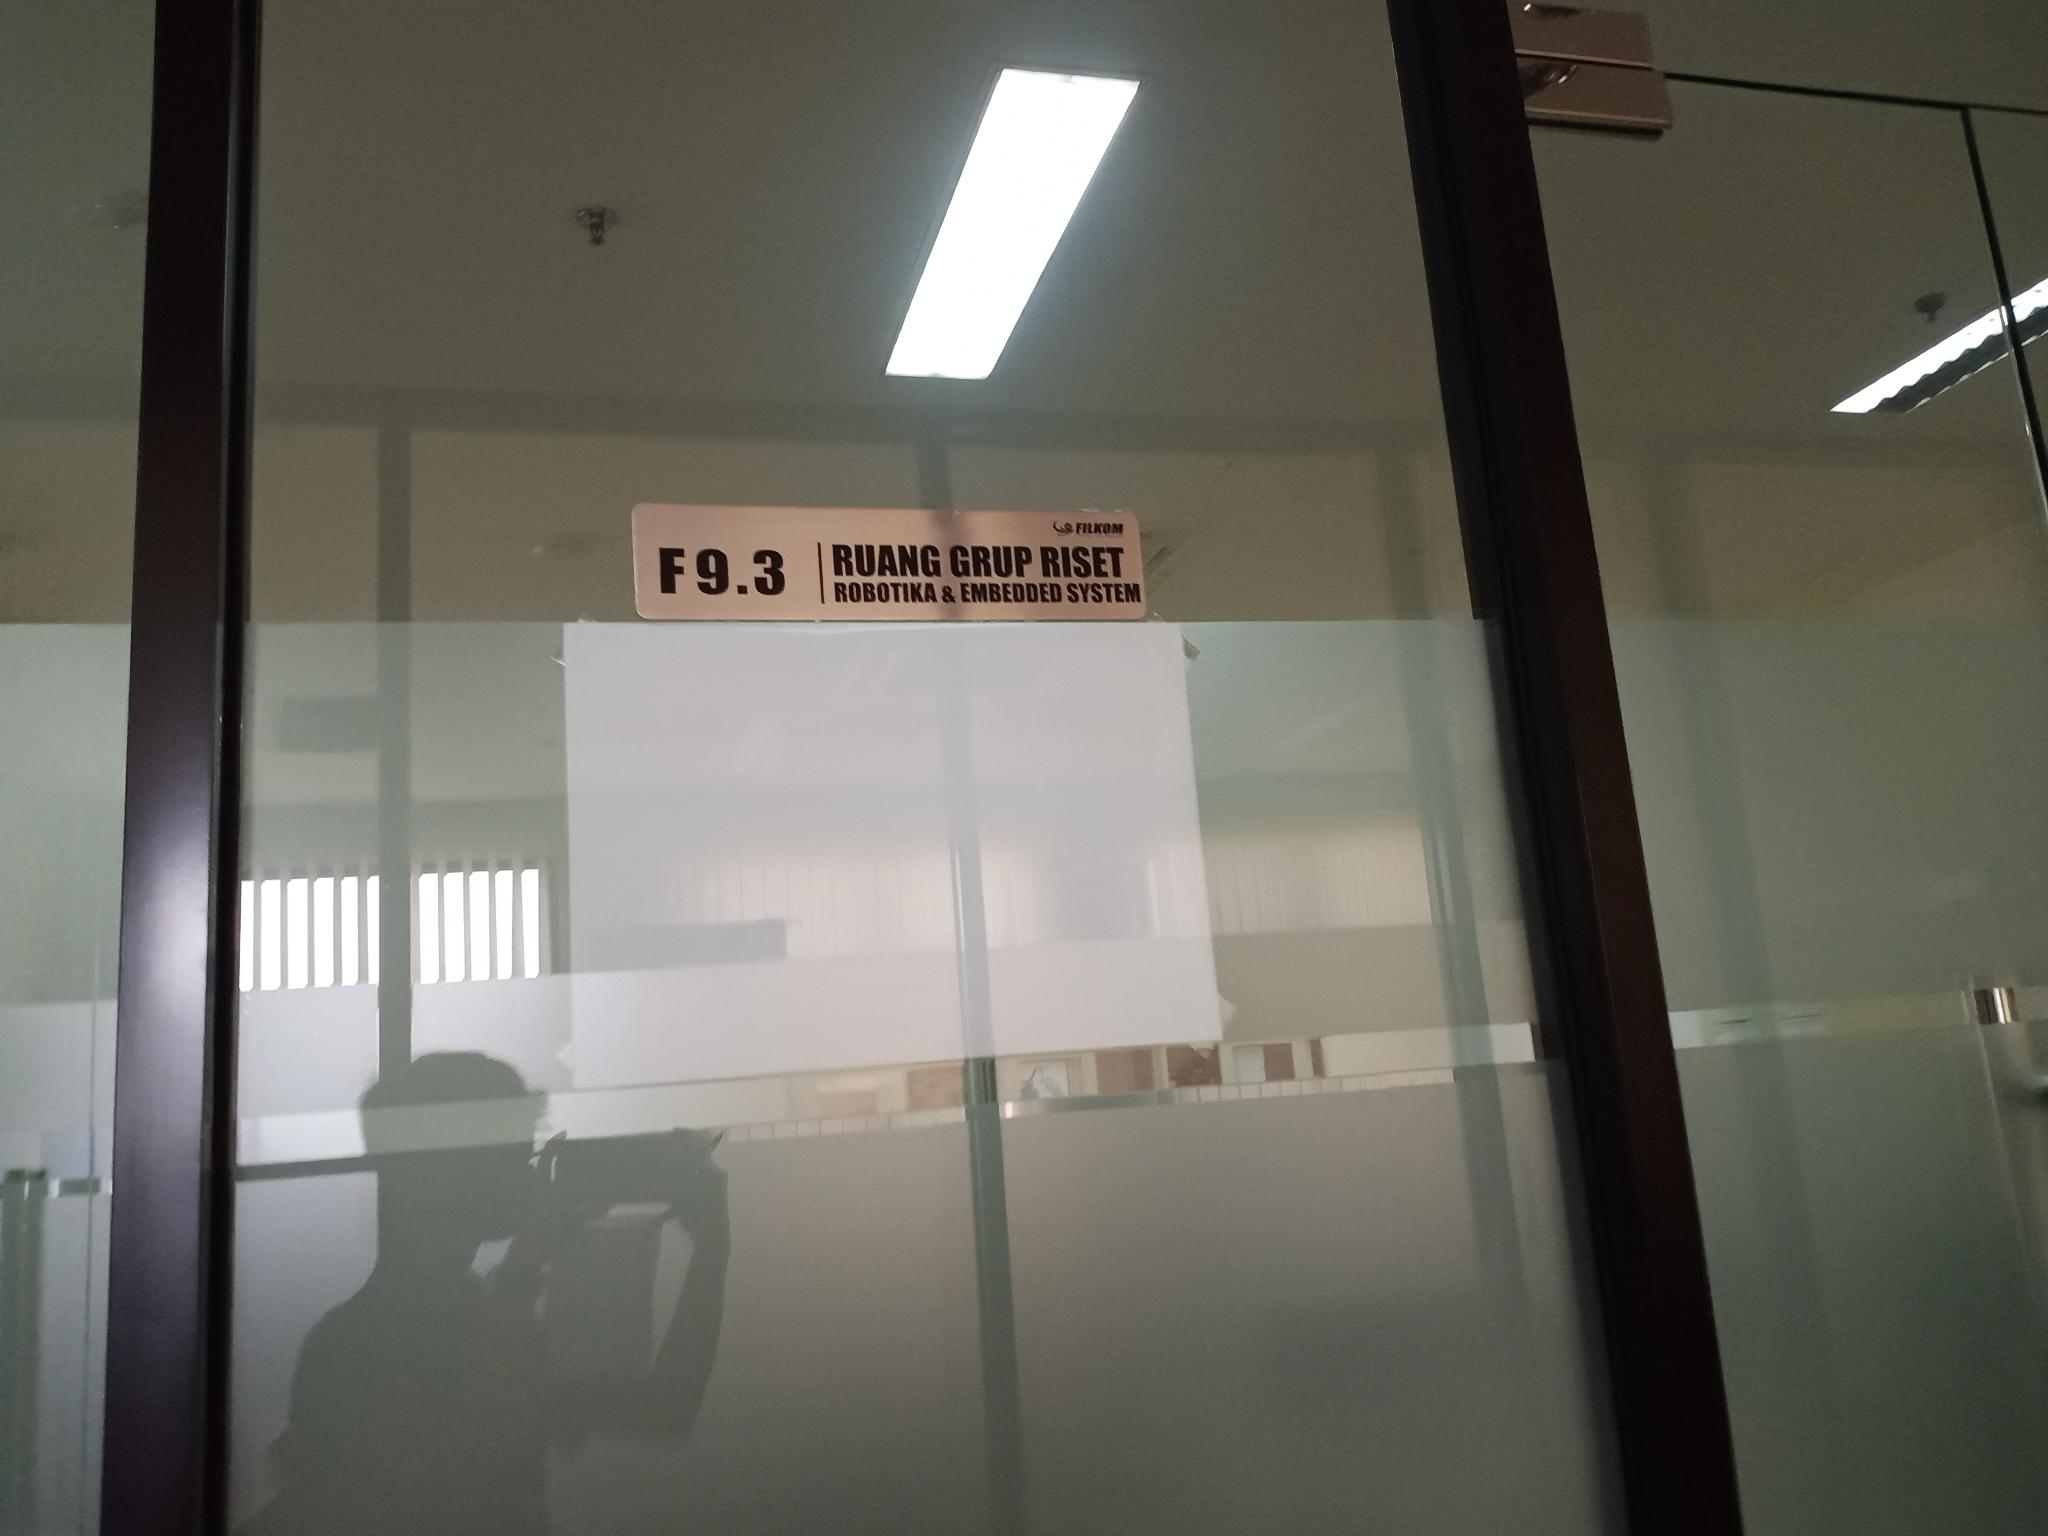plate: (632, 500, 1156, 626)
